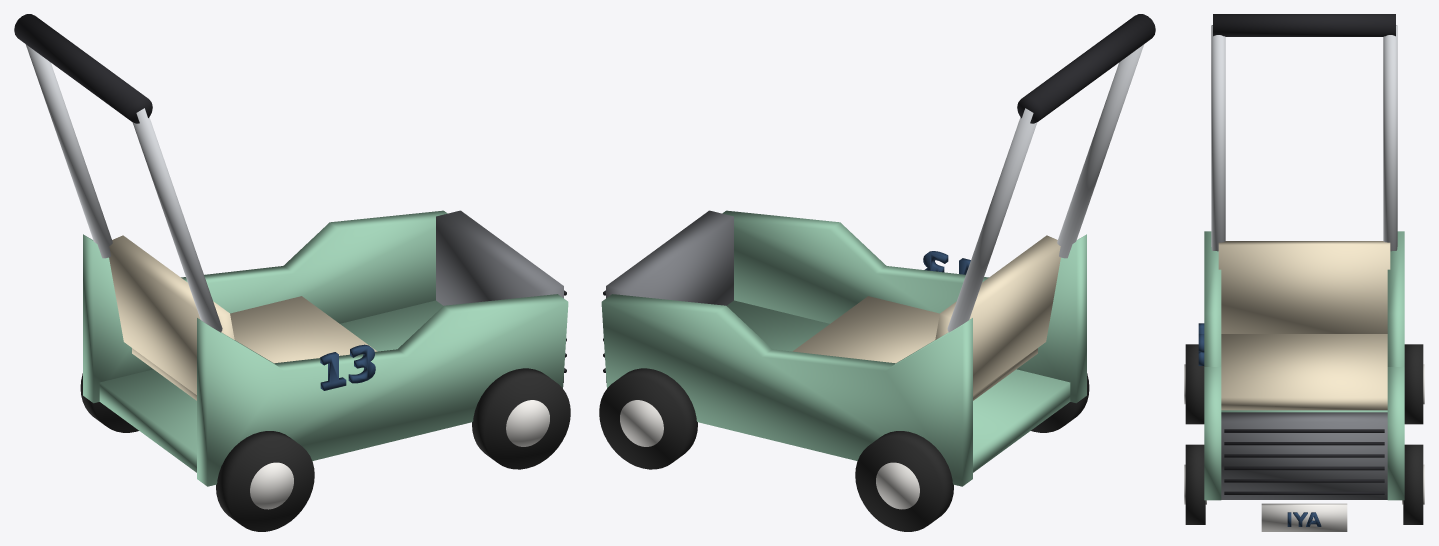
Rendered from baby-stroller.glb.
The picture shows the model from 3 angles, left to right: view 1: azimuth 30°, elevation 25°; view 2: azimuth 150°, elevation 25°; view 3: azimuth 270°, elevation 25°; orthographic projection. The views are drawn at different scales.
Parts seen in each view (by area): view 1: part0, part3, part18, part2, part15, part5, part6, part12, part13; view 2: part0, part3, part18, part2, part15, part5, part6, part12; view 3: part3, part5, part0, part6, part15, part18, part12, part13, part2.
Part boxes in pixels (x1,y1,x2,y2): part0: (83, 210, 568, 486); part3: (109, 235, 377, 400); part18: (80, 368, 570, 531); part2: (99, 300, 442, 472); part15: (26, 44, 222, 332); part5: (436, 210, 563, 382); part6: (14, 14, 566, 372); part12: (250, 400, 549, 509); part13: (320, 344, 375, 390); part0: (601, 210, 1086, 486); part3: (792, 235, 1060, 400); part18: (599, 368, 1089, 531); part2: (727, 300, 1070, 472); part15: (947, 44, 1143, 332); part5: (606, 210, 733, 382); part6: (603, 14, 1155, 372); part12: (620, 400, 919, 509); part3: (1218, 241, 1390, 410); part5: (1221, 412, 1387, 499); part0: (1204, 231, 1404, 500); part6: (1213, 14, 1395, 494); part15: (1211, 25, 1397, 251); part18: (1185, 344, 1423, 524); part12: (1184, 364, 1424, 531); part13: (1198, 323, 1321, 526); part2: (1221, 410, 1387, 412).
Size of the model in its own units: 1 by 0.9329 by 0.5638.
